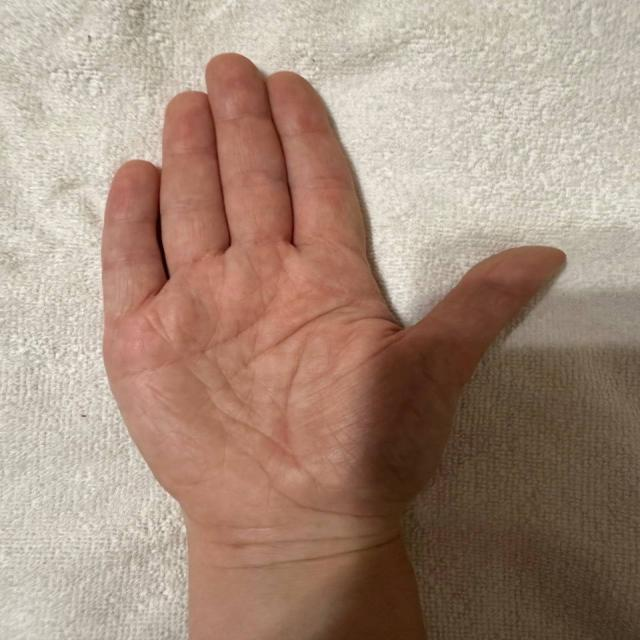v: (98, 57, 573, 485)
